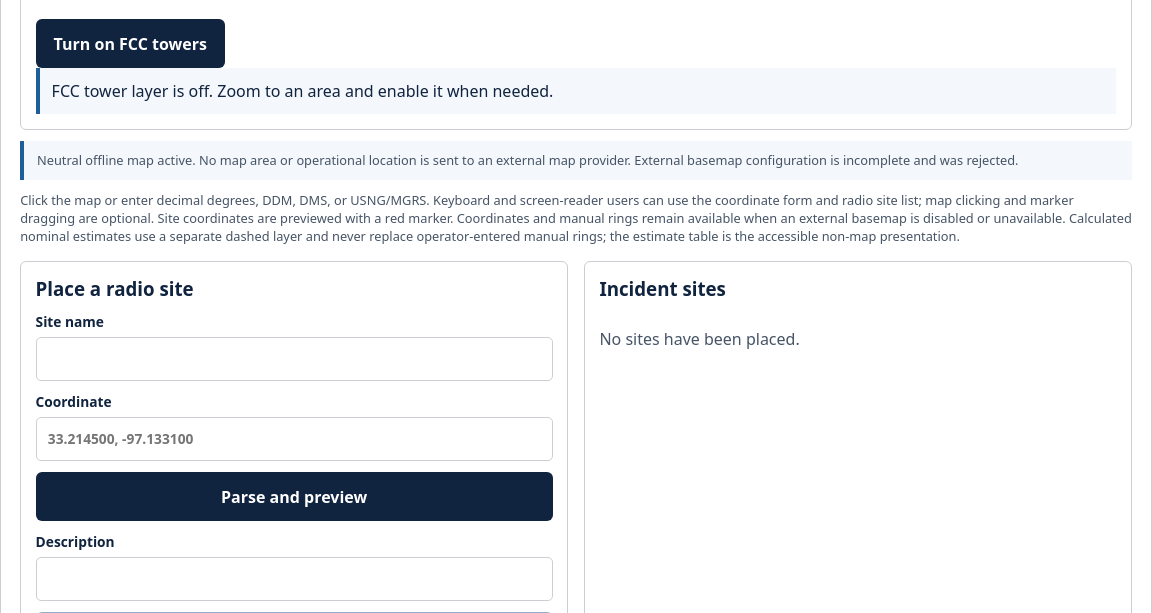
Test: retains radio-site form values when the save fails
(page scrolled)
In the field labelled "Site name": (294, 359) x1=36 y1=337 x2=553 y2=381, type "Synthetic Command Site"
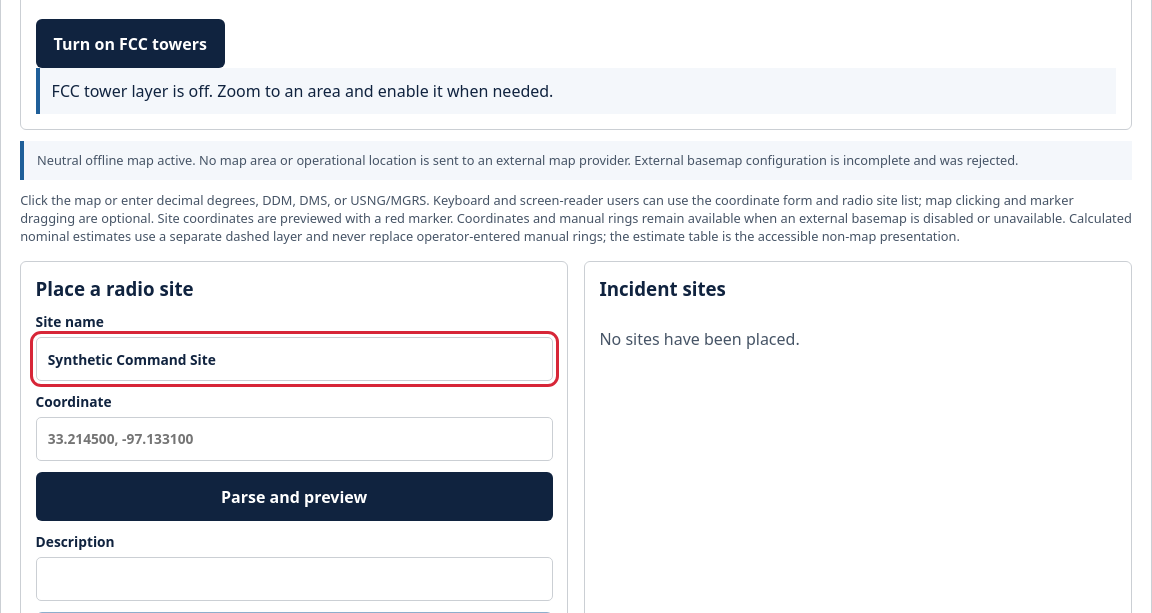
In the field labelled "Coordinate": (294, 439) x1=36 y1=417 x2=553 y2=461, type "31.000000, -99.000000"
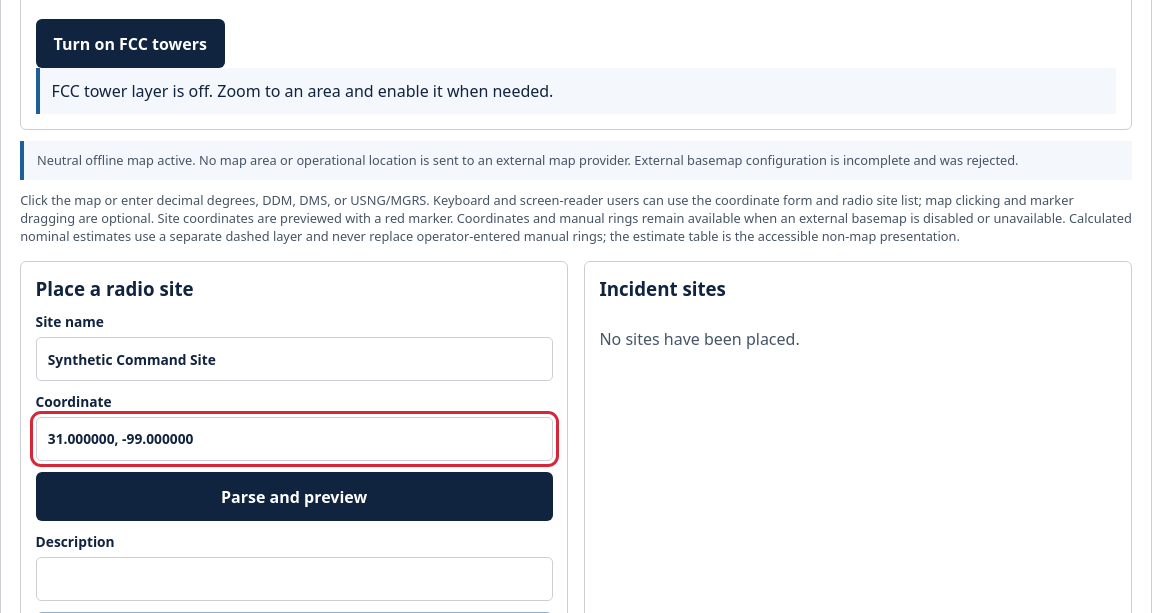
In the field labelled "Description": (294, 579) x1=36 y1=557 x2=553 y2=601, type "Synthetic fixture"
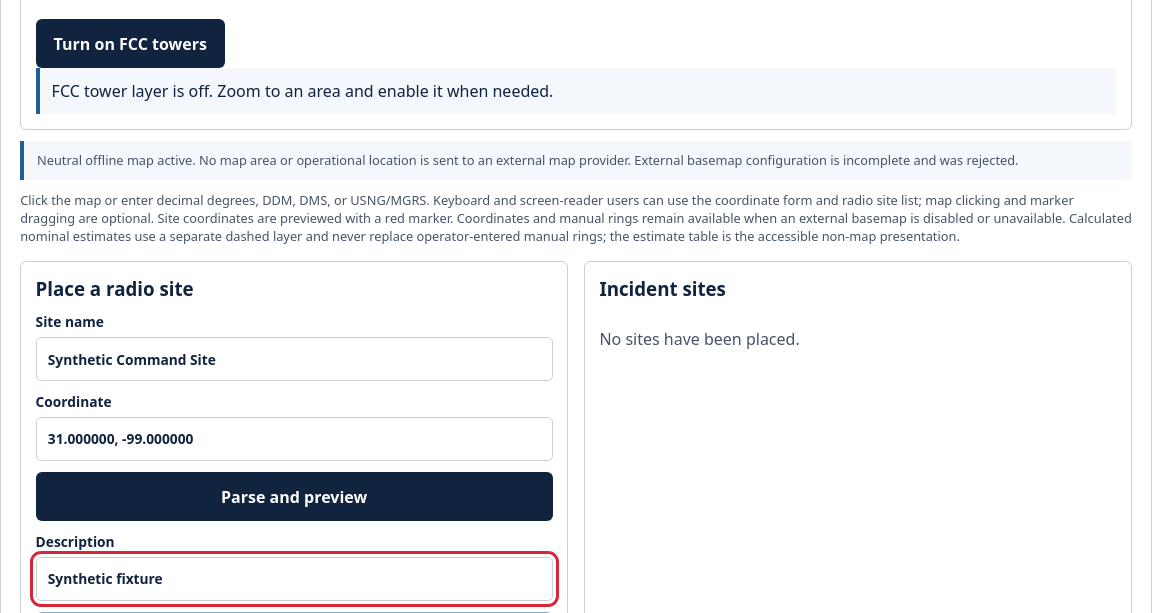
Click the button "Parse and preview": (294, 496) x1=36 y1=472 x2=553 y2=521
(page scrolled)
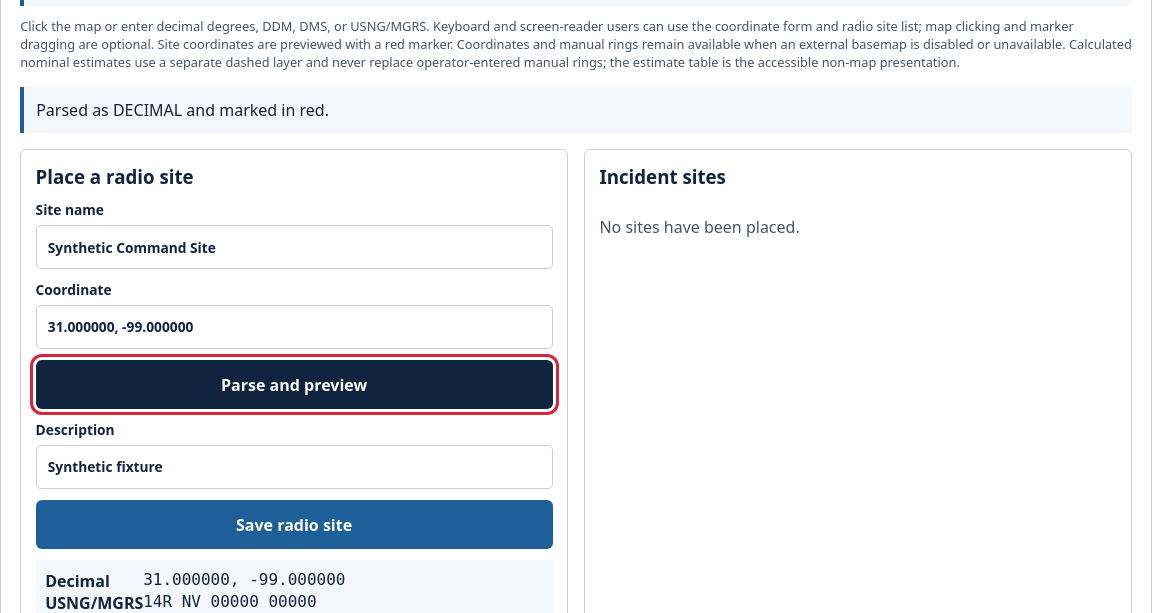
Expected: the button "Save radio site" is enabled
Click the button "Save radio site": (294, 524) x1=36 y1=500 x2=553 y2=549
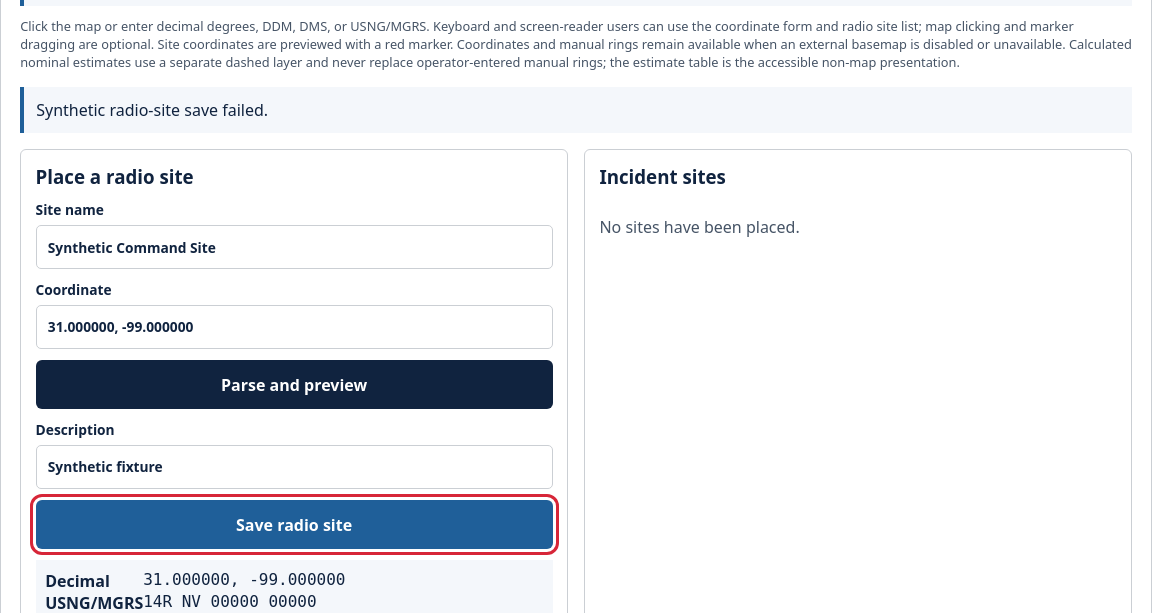
Expected: the message reads "Synthetic radio-site save failed.", x1=36 y1=99 x2=268 y2=121
